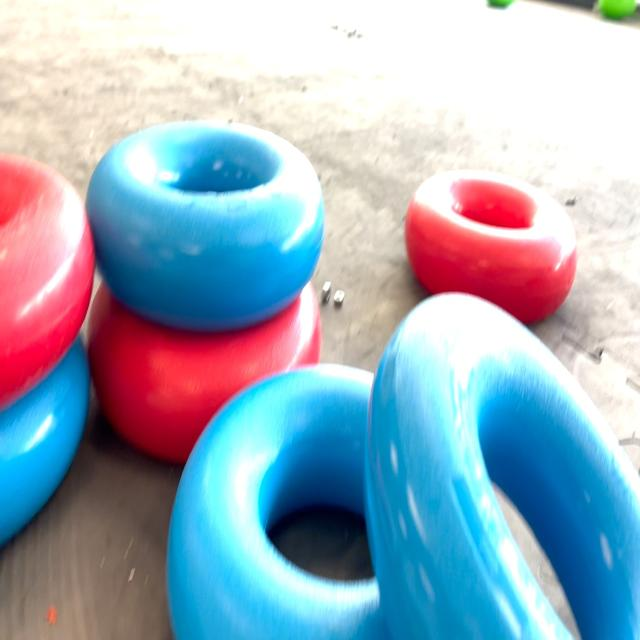Blue-Ring: (364, 293, 640, 638), (168, 364, 386, 638), (86, 122, 324, 331), (0, 338, 90, 546)
Red-Ring: (89, 282, 321, 462), (405, 171, 576, 322), (0, 153, 95, 408)
